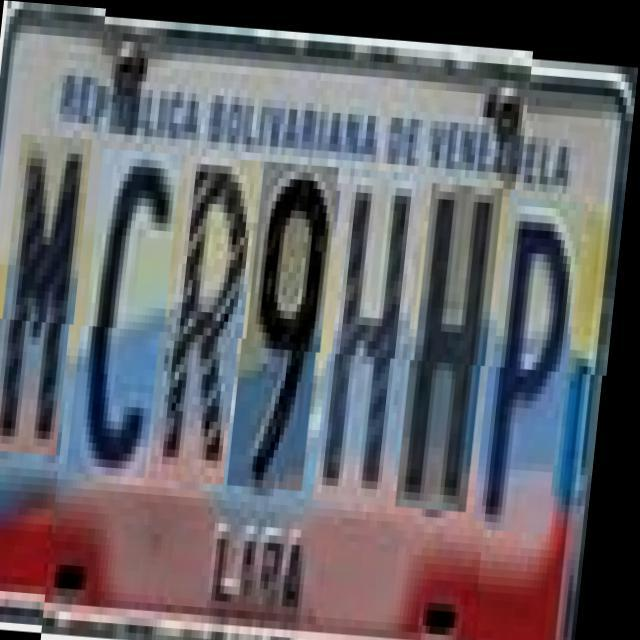9: (241, 157, 342, 486)
C: (80, 146, 185, 475)
H: (326, 162, 428, 498), (409, 175, 506, 504)
M: (0, 141, 94, 462)
P: (487, 180, 589, 516)
R: (162, 151, 264, 480)
